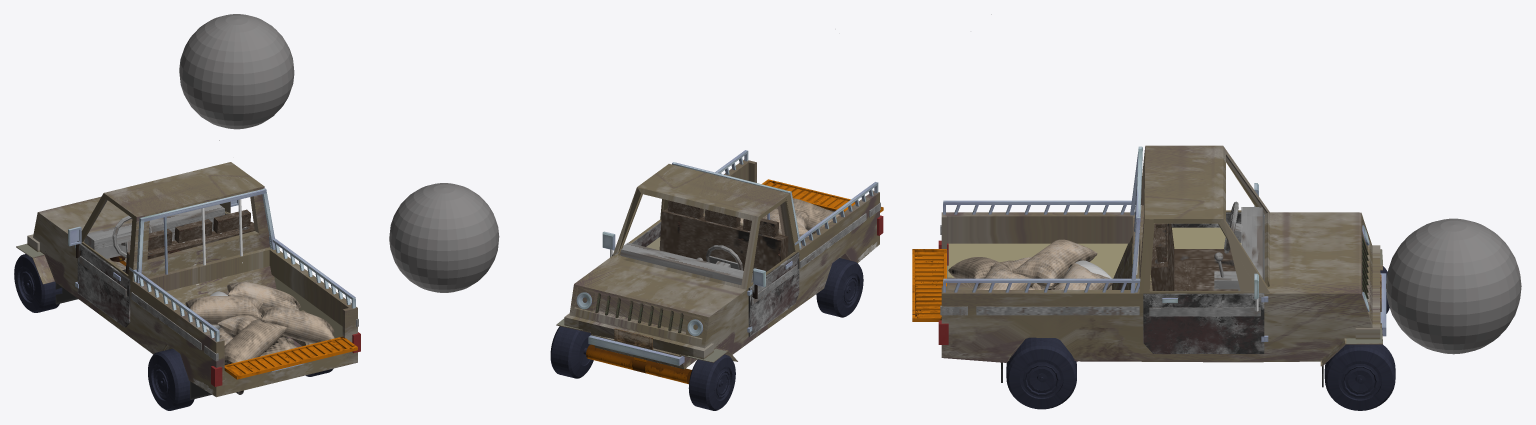
Rendered from CamionFinalTruck.fbx.
3 views of the same model, side by side, from view 1: azimuth 30°, elevation 25°; view 2: azimuth 150°, elevation 25°; view 3: azimuth 270°, elevation 25° (orthographic). The views are drawn at different scales.
Visible parts, largest first — view 1: Plane.006, Sphere.001, Cylinder.015, Cylinder.017; view 2: Plane.006, Sphere.001, Cylinder.017, Cylinder.015, Cylinder.018; view 3: Plane.006, Sphere.001, Cylinder.016, Cylinder.018.
Boxes of the visible parts, <box> form: Plane.006: <box>16,162,360,399</box>; Sphere.001: <box>179,14,294,129</box>; Cylinder.015: <box>148,348,194,410</box>; Cylinder.017: <box>14,254,62,312</box>; Plane.006: <box>556,150,883,384</box>; Sphere.001: <box>389,183,499,292</box>; Cylinder.017: <box>688,354,735,410</box>; Cylinder.015: <box>816,258,863,317</box>; Cylinder.018: <box>550,326,593,378</box>; Plane.006: <box>912,145,1386,387</box>; Sphere.001: <box>1386,218,1521,354</box>; Cylinder.016: <box>1006,337,1076,409</box>; Cylinder.018: <box>1324,344,1395,410</box>.
Bounding box in the file's own units: 679 × 607 × 1008.
62 materials, 46 textured.
